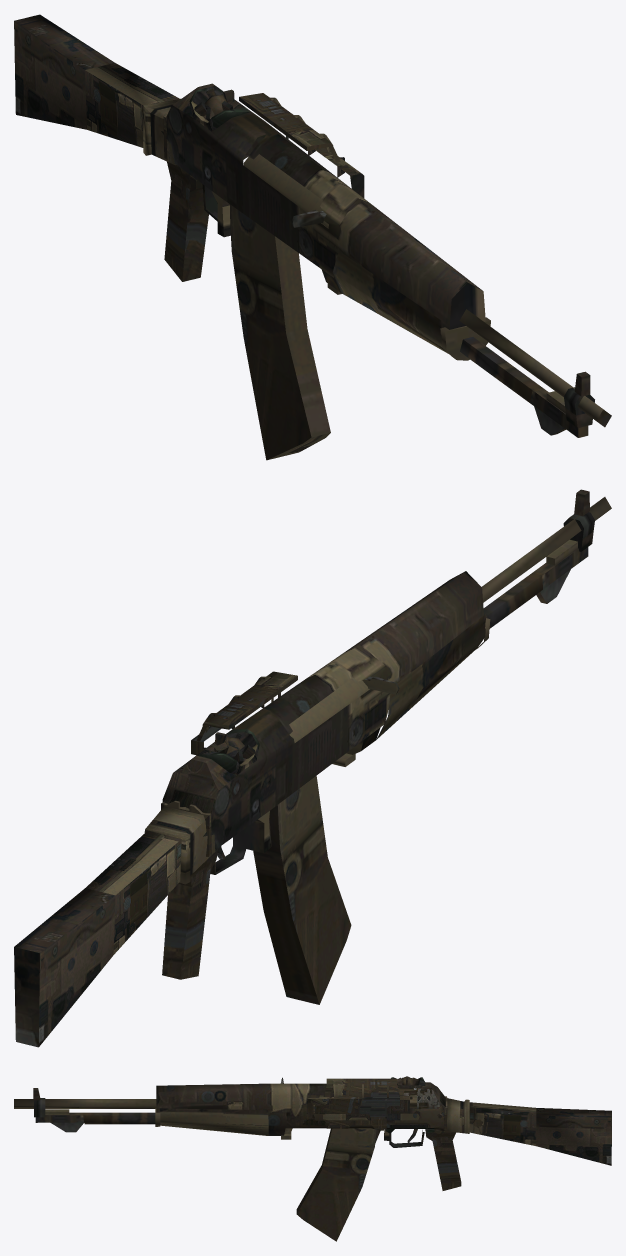
The model's file is Assault_Rifle_pw_1045_AN94_lod1_Body_LOD_(000380).glb.
3 views of the same model, one above another, from view 1: azimuth 30°, elevation 25°; view 2: azimuth 150°, elevation 25°; view 3: azimuth 270°, elevation 25° (orthographic). The views are drawn at different scales.
Visible parts, largest first — view 1: pw_1045_AN94_lod1; view 2: pw_1045_AN94_lod1; view 3: pw_1045_AN94_lod1.
Part boxes in pixels (left/top/right/bottom): pw_1045_AN94_lod1: left=14, top=14, right=611, bottom=460; pw_1045_AN94_lod1: left=14, top=489, right=611, bottom=1047; pw_1045_AN94_lod1: left=14, top=1076, right=611, bottom=1241.
Size of the model in its own units: 0.1124 by 0.3479 by 1.16.
1 material, 1 textured.
